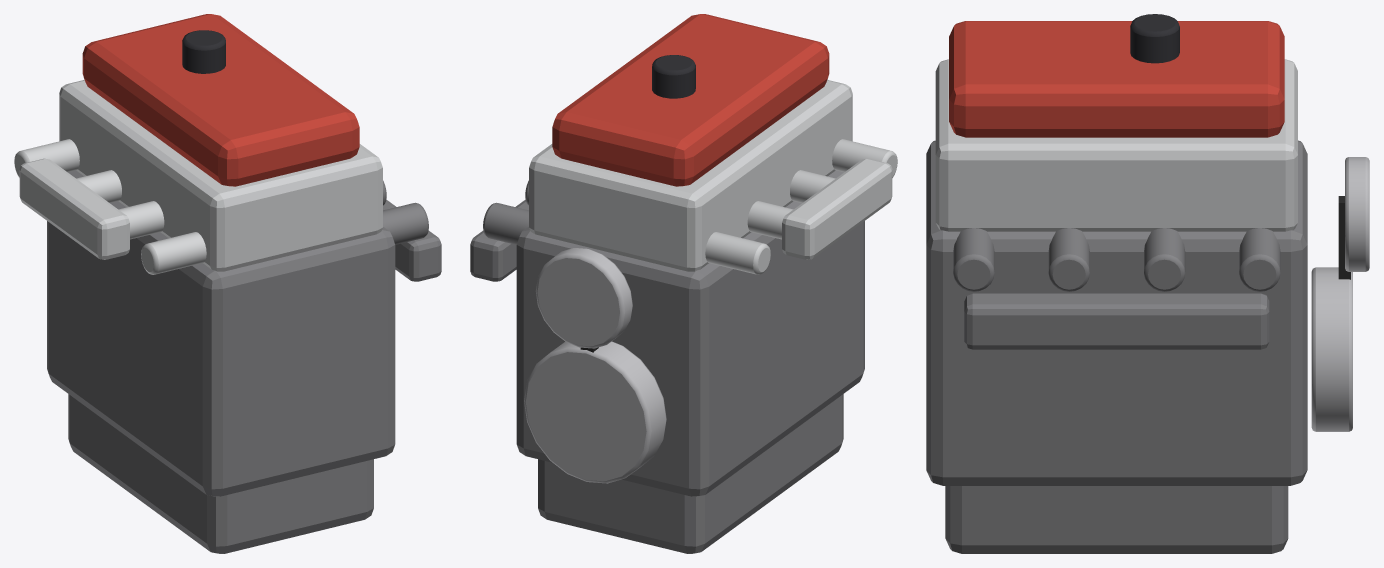
Rendered from engine_i4.glb.
3 views of the same model, side by side, from view 1: azimuth 30°, elevation 25°; view 2: azimuth 150°, elevation 25°; view 3: azimuth 270°, elevation 25° (orthographic). The views are drawn at different scales.
Parts seen in each view (by area): view 1: engine_i4; view 2: engine_i4; view 3: engine_i4.
Boxes of the visible parts, left/top/right/bottom form: engine_i4: left=14, top=14, right=441, bottom=553; engine_i4: left=470, top=14, right=897, bottom=553; engine_i4: left=926, top=14, right=1369, bottom=553.
Bounding box in the file's own units: 0.5 × 0.655 × 0.535.
